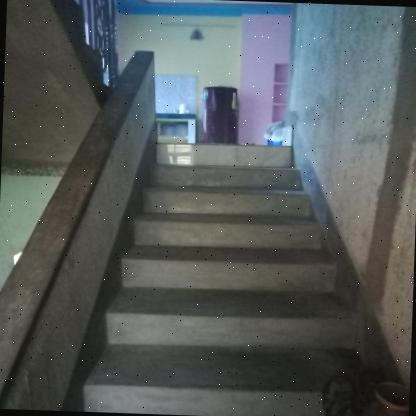stair: (83, 152, 387, 416)
